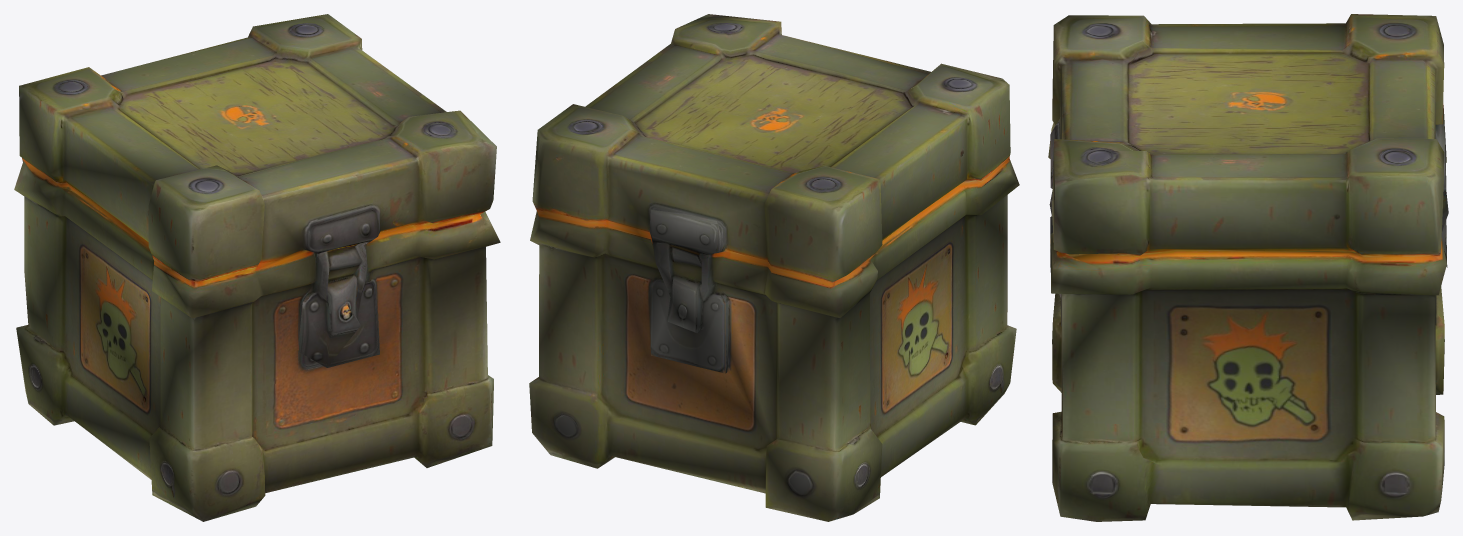
The model's file is Mystery_Box_0408235727_texture.glb.
The picture shows the model from 3 angles, left to right: view 1: azimuth 30°, elevation 25°; view 2: azimuth 150°, elevation 25°; view 3: azimuth 270°, elevation 25°; orthographic projection. The views are drawn at different scales.
Parts seen in each view (by area): view 1: Mesh1; view 2: Mesh1; view 3: Mesh1.
Part boxes in pixels (x1,y1,x2,y2): Mesh1: (14, 14, 500, 521); Mesh1: (529, 14, 1019, 521); Mesh1: (1048, 14, 1448, 521).
Size of the model in its own units: 2.03 by 1.94 by 2.02.
1 material, 1 textured.
